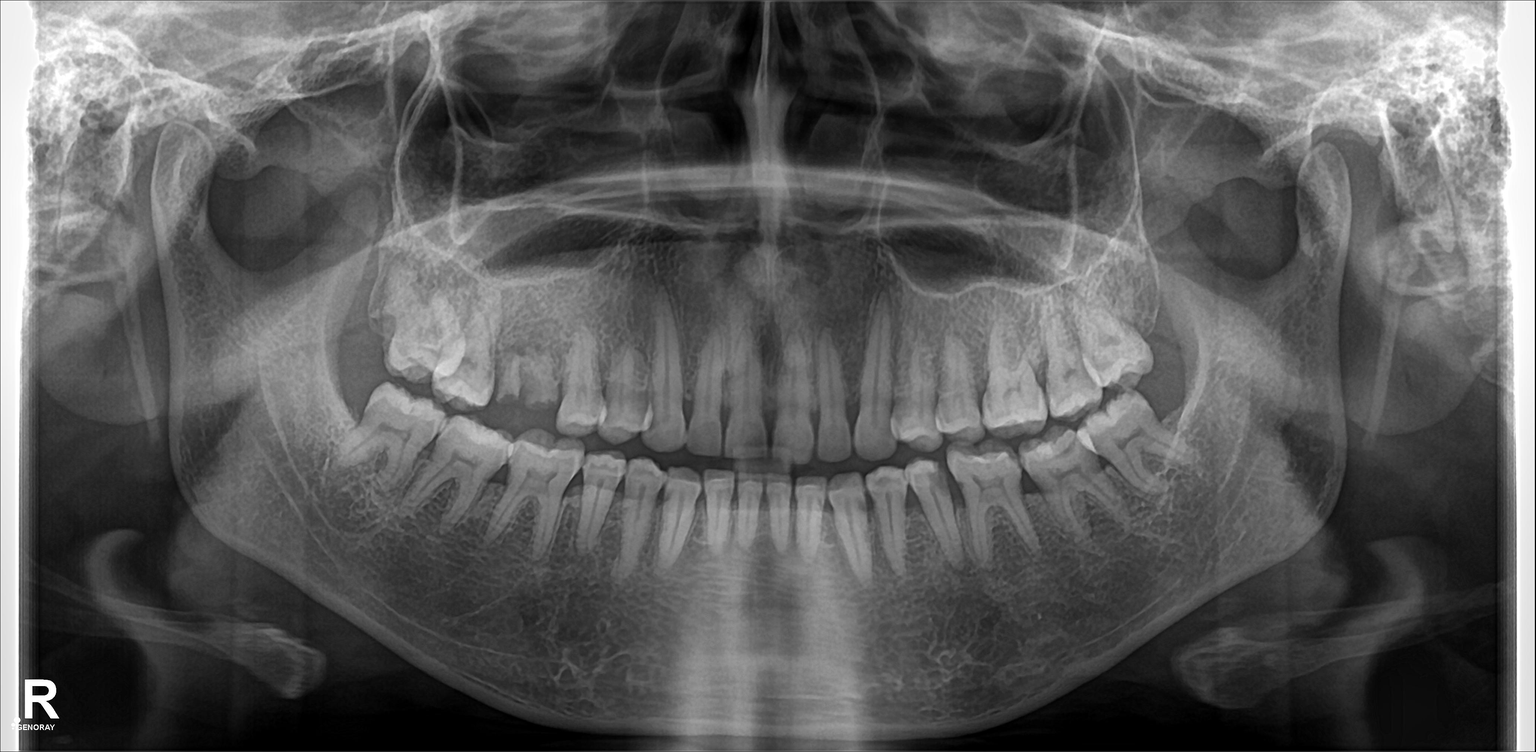Impacted Third Molar: (1086, 406, 1199, 475)
Missing Tooth: (341, 283, 386, 372)
Retained Root: (521, 339, 556, 407), (494, 339, 520, 413)
